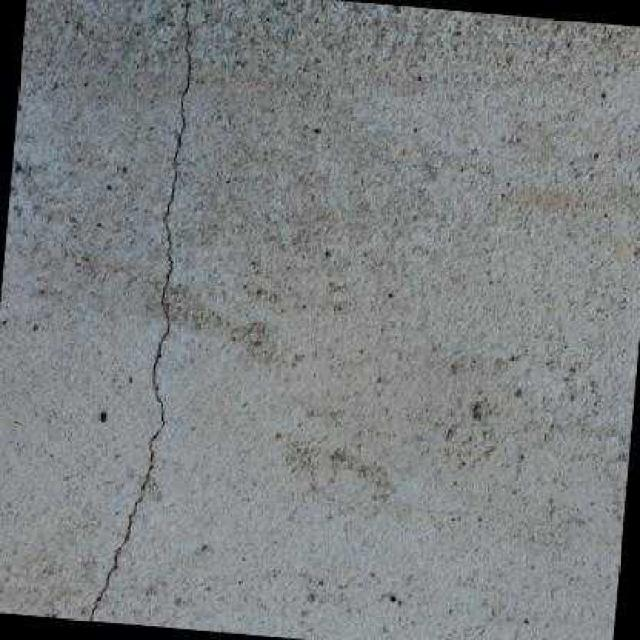D00: (89, 0, 191, 621)
